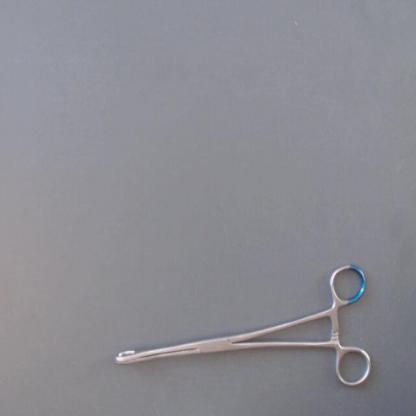Sponge Forceps: (110, 259, 377, 393)
